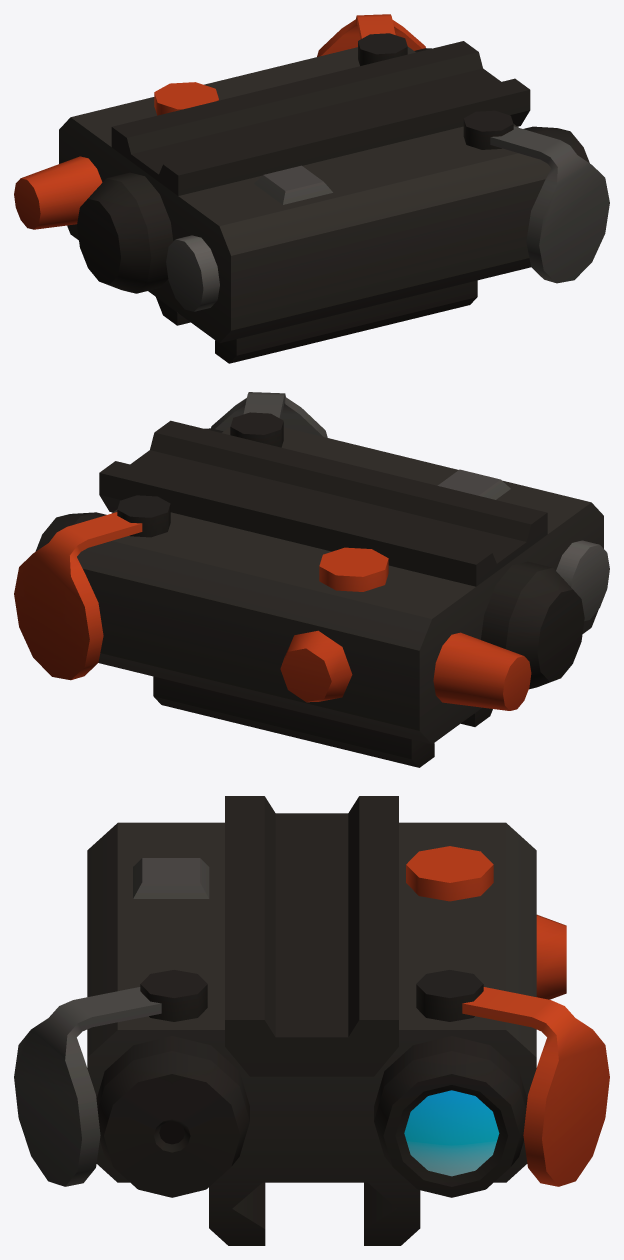
The model's file is Tactical_LaserAimingSystem.fbx.
3 renders of one model, top to bottom at view 1: azimuth 30°, elevation 25°; view 2: azimuth 150°, elevation 25°; view 3: azimuth 270°, elevation 25°, orthographic. The views are drawn at different scales.
Parts seen in each view (by area): view 1: Tactical_LaserAimingSystem; view 2: Tactical_LaserAimingSystem; view 3: Tactical_LaserAimingSystem.
Part boxes in pixels (x1,y1,x2,y2): Tactical_LaserAimingSystem: (14,14,609,363); Tactical_LaserAimingSystem: (14,392,609,767); Tactical_LaserAimingSystem: (14,796,609,1245).
Bounding box in the file's own units: 10.4 × 4.58 × 9.39.
